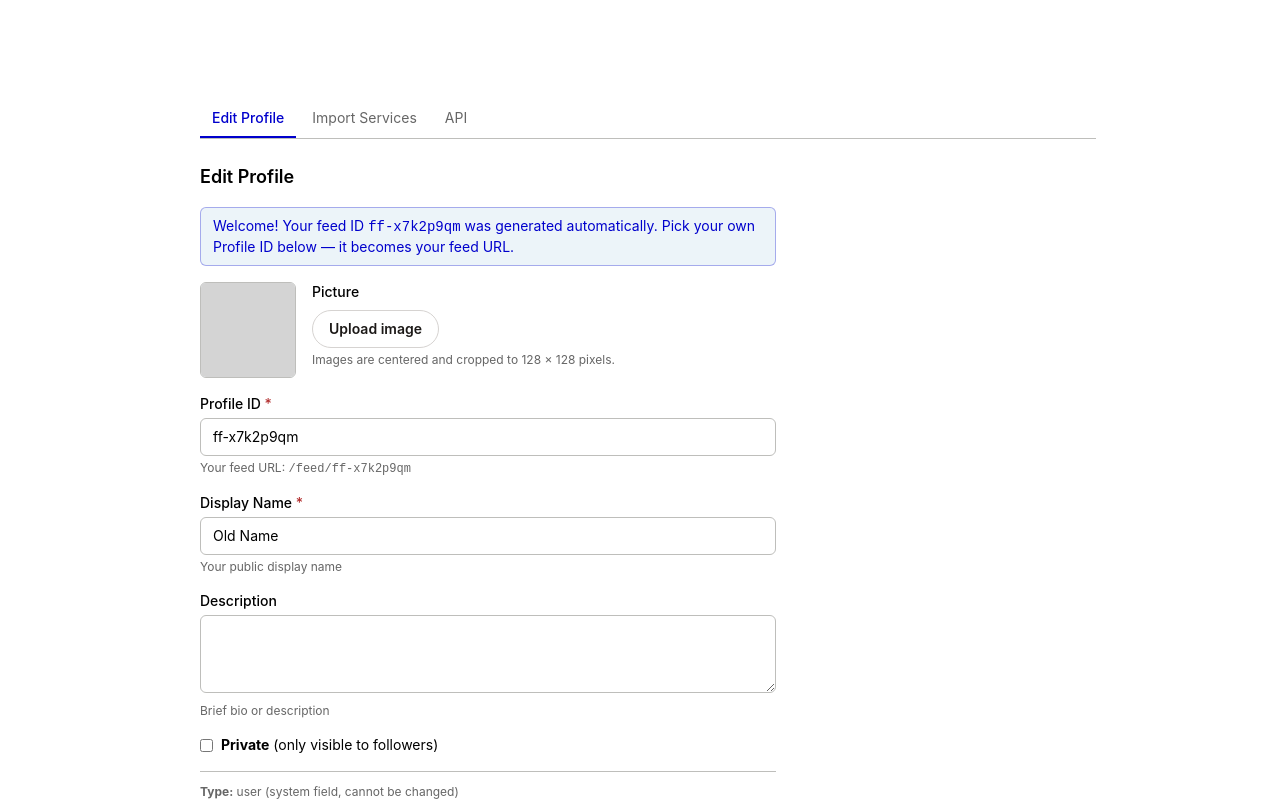
Test: AccountApp › clears the onboarding banner and welcome param after the first save
Check: the element that starts with "Welcome! Your feed ID" shows "generated automatically", box [213,217,755,255]
Replace the text in the field labelled "Profile ID *" with "alice" at (488, 437), box [200,418,776,456]
(page scrolled)
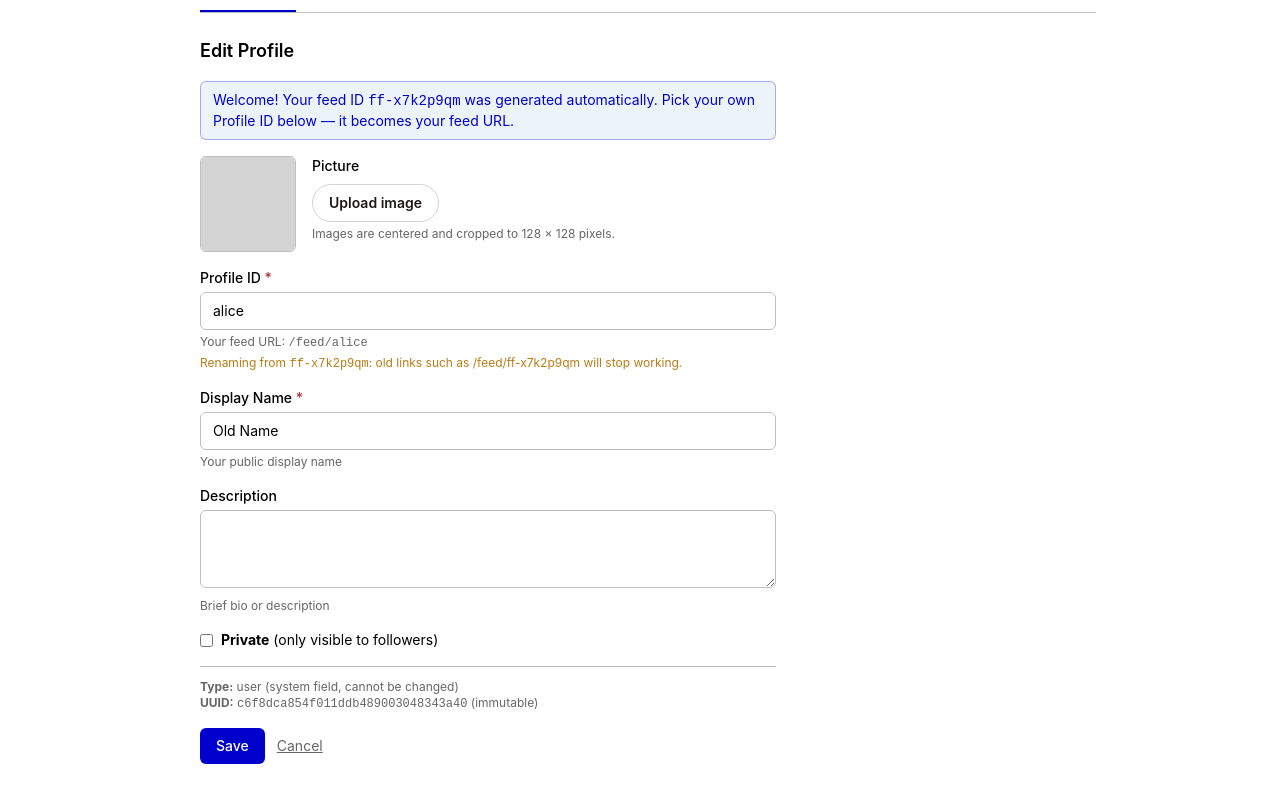
Submit the form, box [200,37,776,764]
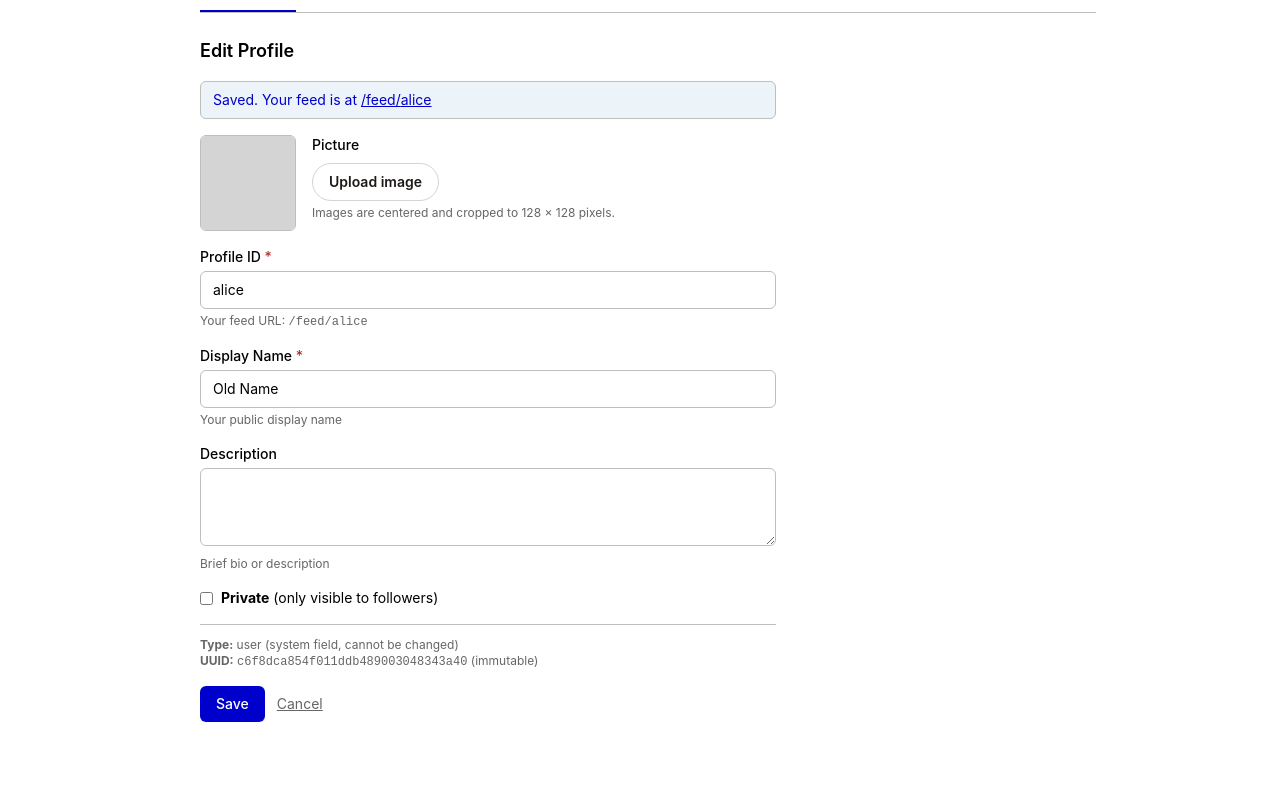
Check: the message "Saved. Your feed is at /feed/alice" is shown, box [200,81,776,119]
